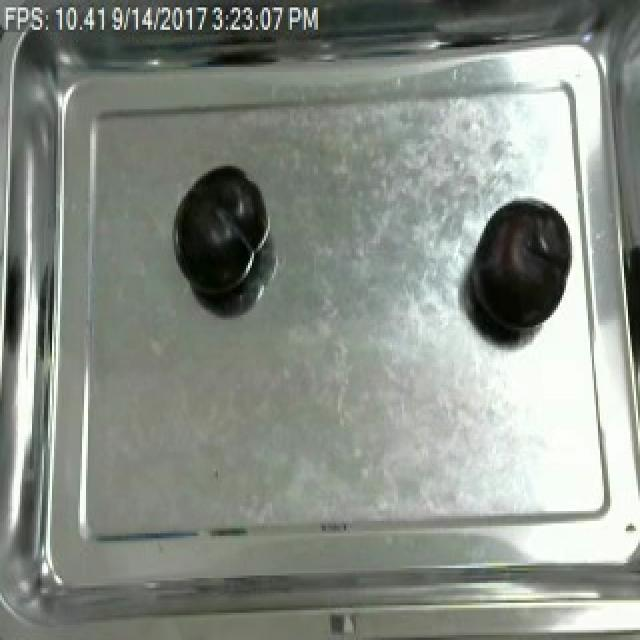Fruit: (462, 194, 574, 342), (170, 161, 268, 303)
